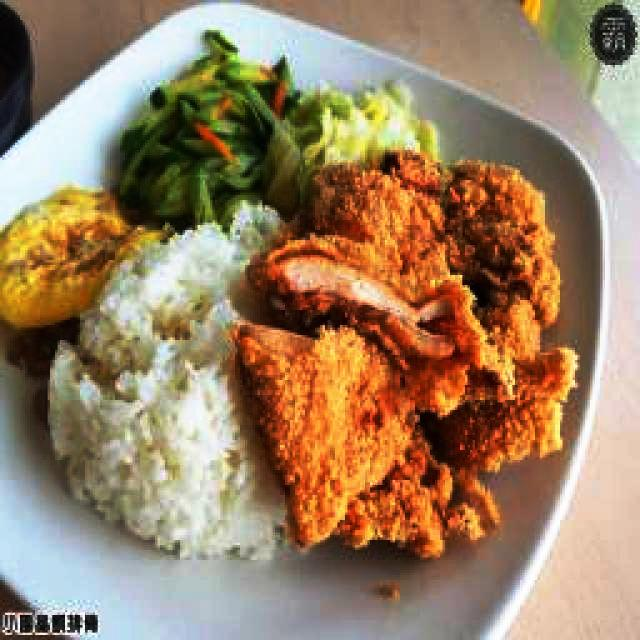fried_chicken: (232, 149, 580, 562)
rice: (44, 198, 292, 562)
